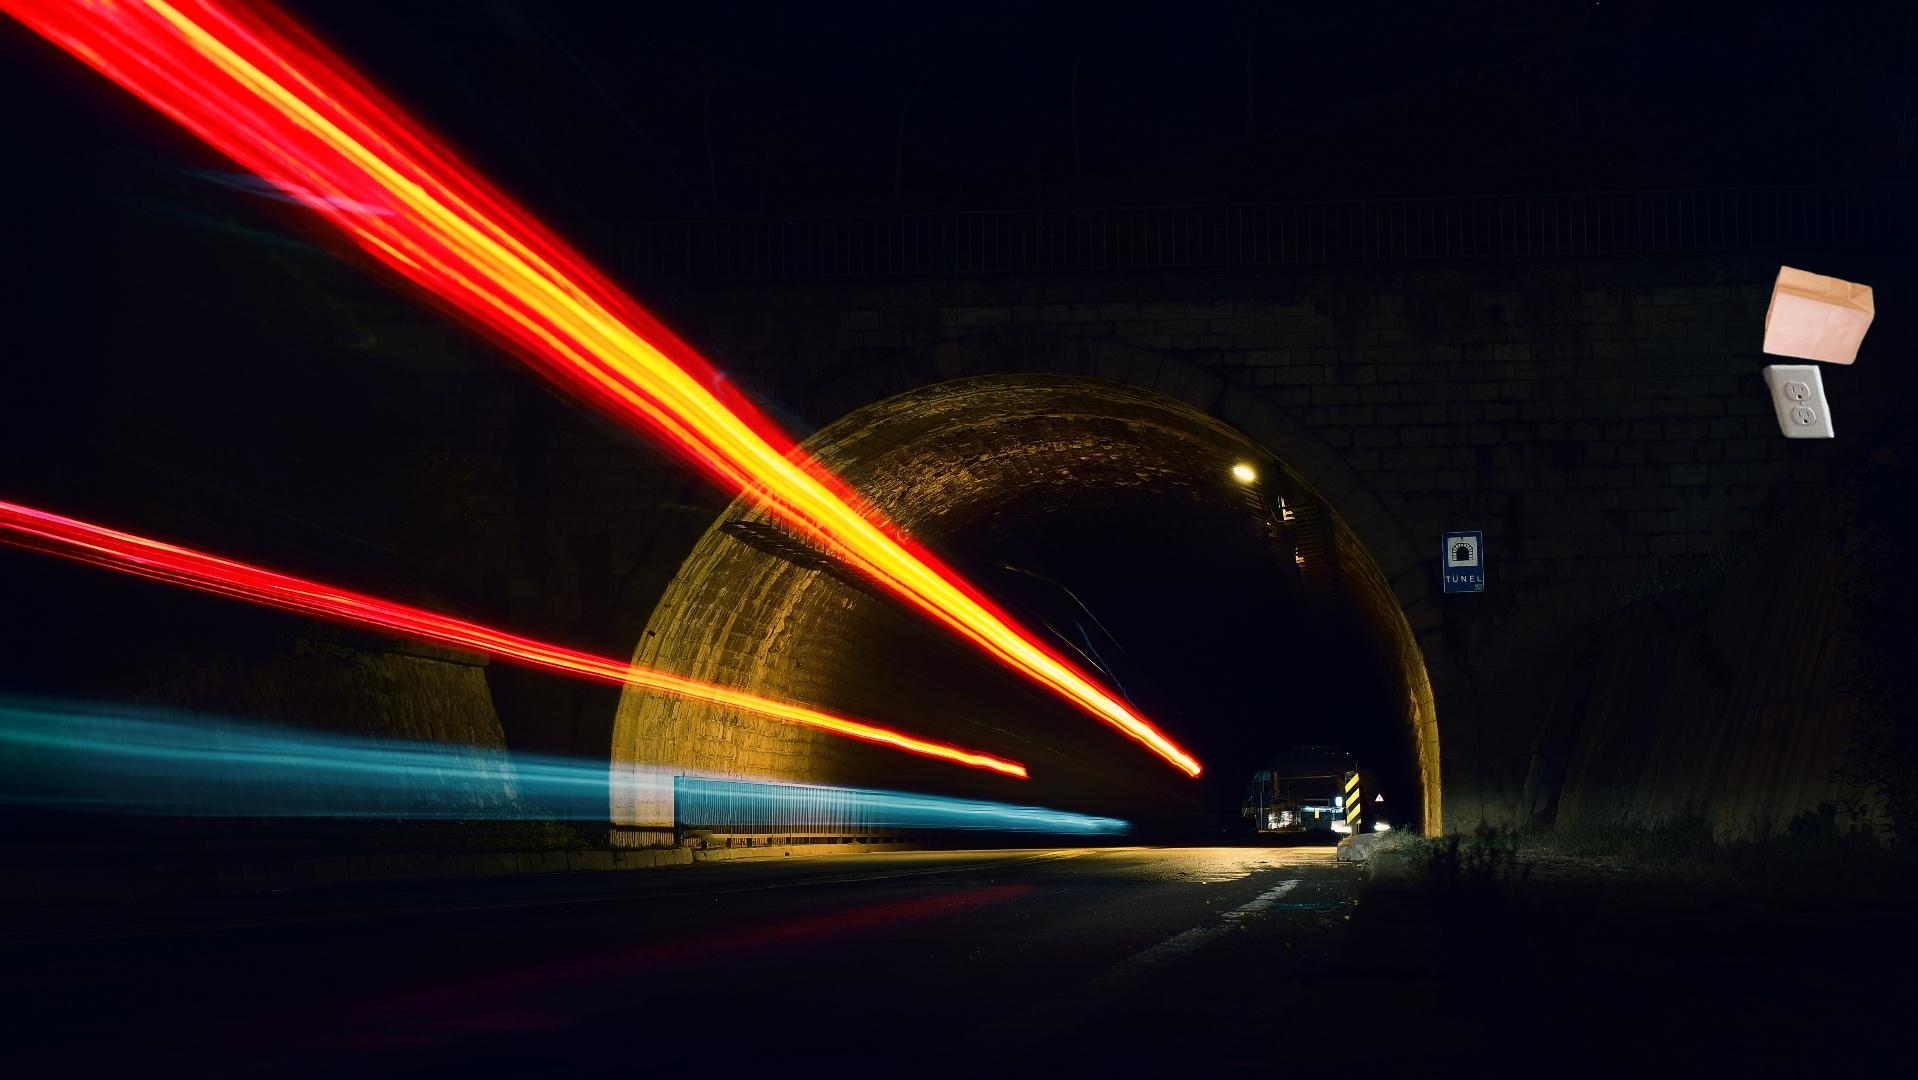paper-bag: (1759, 261, 1878, 443)
